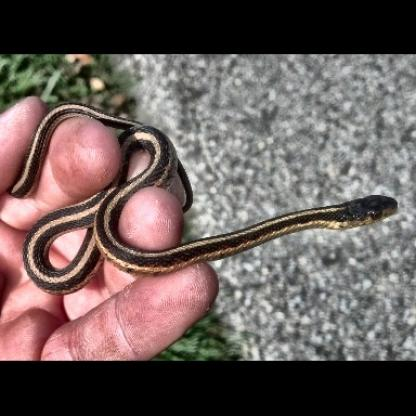Snake: (17, 102, 414, 296)
